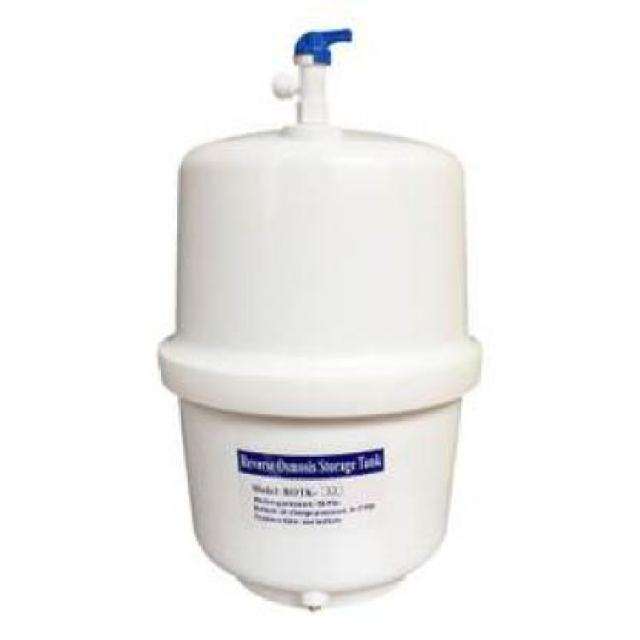coolerbottle: (154, 117, 486, 618)
